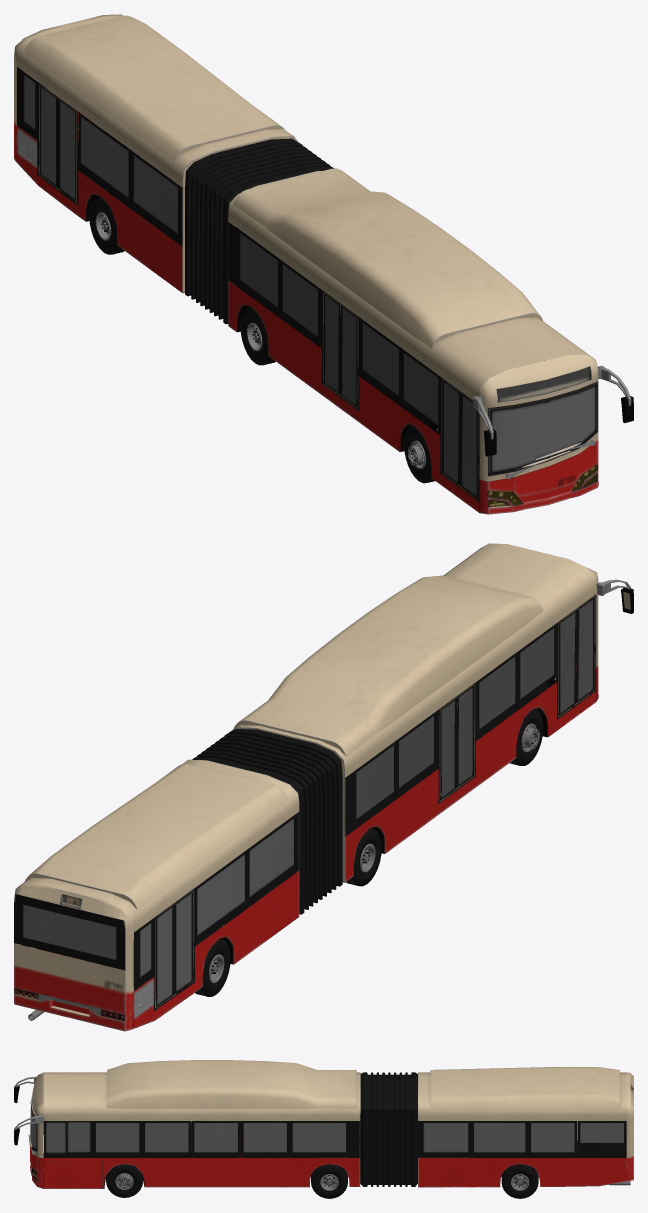
File: bus_articulated.glb
The picture shows the model from 3 angles, top to bottom: view 1: azimuth 30°, elevation 25°; view 2: azimuth 150°, elevation 25°; view 3: azimuth 270°, elevation 25°; orthographic projection. The views are drawn at different scales.
Visible parts, largest first — view 1: citi_bus_articulated_body, city_bus_articulated_rear_wheel, city_bus_articulated_front_wheel; view 2: citi_bus_articulated_body, city_bus_articulated_rear_wheel, city_bus_articulated_front_wheel; view 3: citi_bus_articulated_body, city_bus_articulated_rear_wheel, city_bus_articulated_front_wheel.
Boxes of the visible parts, x1,y1,x2,y2 form: citi_bus_articulated_body: [14, 14, 633, 514]; city_bus_articulated_rear_wheel: [89, 197, 275, 365]; city_bus_articulated_front_wheel: [404, 426, 434, 483]; citi_bus_articulated_body: [14, 543, 633, 1031]; city_bus_articulated_rear_wheel: [195, 828, 381, 996]; city_bus_articulated_front_wheel: [509, 709, 543, 765]; citi_bus_articulated_body: [14, 1060, 633, 1188]; city_bus_articulated_rear_wheel: [311, 1164, 538, 1198]; city_bus_articulated_front_wheel: [106, 1164, 143, 1197].
Size of the model in its own units: 3.07 by 3.42 by 17.78.
Materials: 1 (1 with a texture image).
